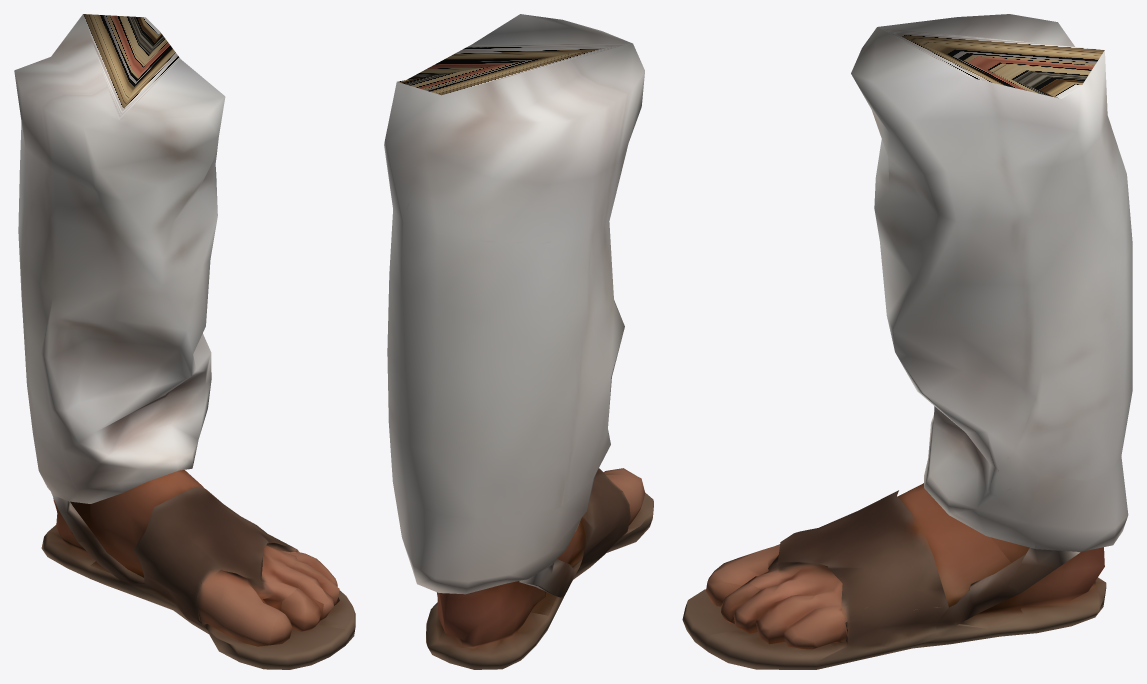
Rendered from pantorrillaIzq.obj.
3 renders of one model, left to right at view 1: azimuth 30°, elevation 25°; view 2: azimuth 150°, elevation 25°; view 3: azimuth 270°, elevation 25°, orthographic. The views are drawn at different scales.
Visible parts, largest first — view 1: pantorrillaIzq; view 2: pantorrillaIzq; view 3: pantorrillaIzq.
Boxes of the visible parts, bbox=[...] form: pantorrillaIzq: bbox=[14, 14, 355, 669]; pantorrillaIzq: bbox=[384, 14, 653, 669]; pantorrillaIzq: bbox=[682, 14, 1132, 669].
Size of the model in its own units: 0.0986 by 0.2197 by 0.1592.
Materials: 1 (1 with a texture image).
